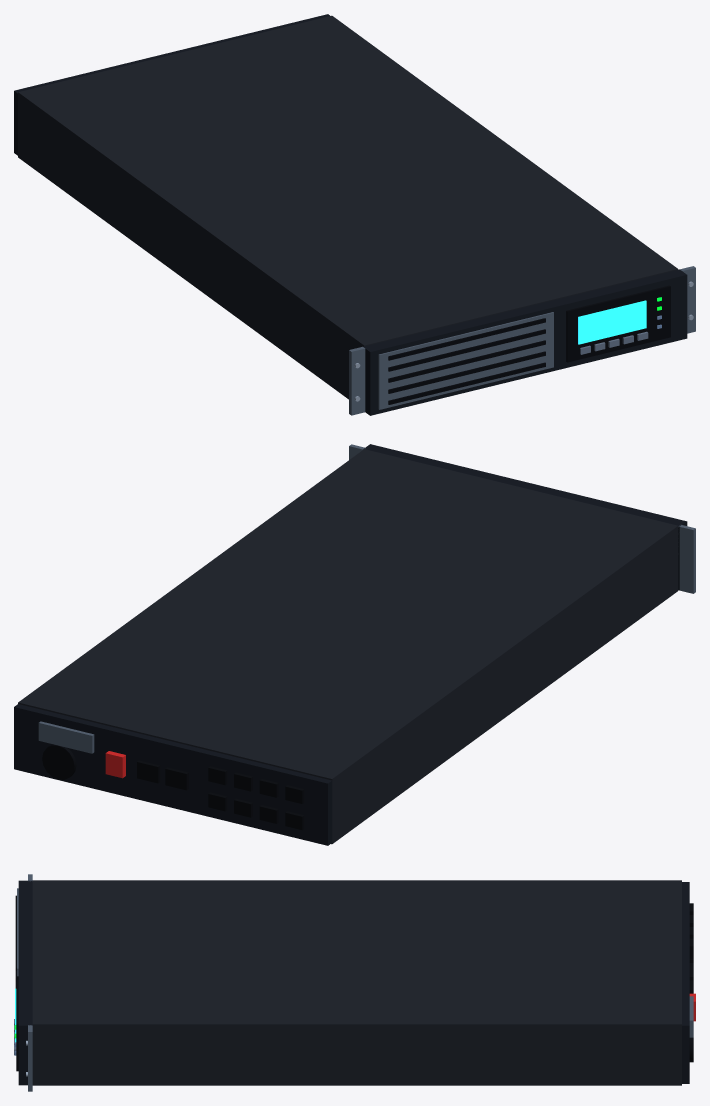
Rendered from generic_ups_2u.glb.
3 views of the same model, one above another, from view 1: azimuth 30°, elevation 25°; view 2: azimuth 150°, elevation 25°; view 3: azimuth 270°, elevation 25° (orthographic). The views are drawn at different scales.
Parts seen in each view (by area): view 1: BATCH_MAT_UPS_BODY, BATCH_MAT_UPS_BEZEL, BATCH_MAT_UPS_EAR, BATCH_MAT_UPS_DARK, BATCH_MAT_UPS_LCD_GLOW; view 2: BATCH_MAT_UPS_BODY, BATCH_MAT_UPS_BEZEL, BATCH_MAT_UPS_DARK, BATCH_MAT_UPS_EAR; view 3: BATCH_MAT_UPS_BODY, BATCH_MAT_UPS_BEZEL, BATCH_MAT_UPS_DARK, BATCH_MAT_UPS_EAR.
Part boxes in pixels (x1,y1,x2,y2): BATCH_MAT_UPS_BODY: (18,15,678,399); BATCH_MAT_UPS_BEZEL: (14,14,687,415); BATCH_MAT_UPS_EAR: (349,266,695,415); BATCH_MAT_UPS_DARK: (388,285,670,404); BATCH_MAT_UPS_LCD_GLOW: (578,300,646,344); BATCH_MAT_UPS_BODY: (18,449,678,844); BATCH_MAT_UPS_BEZEL: (14,444,687,845); BATCH_MAT_UPS_DARK: (42,744,304,830); BATCH_MAT_UPS_EAR: (38,444,695,753); BATCH_MAT_UPS_BODY: (32,880,681,1085); BATCH_MAT_UPS_BEZEL: (18,880,689,1085); BATCH_MAT_UPS_DARK: (15,895,693,1071); BATCH_MAT_UPS_EAR: (17,874,693,1091).
Size of the model in its own units: 0.4826 by 0.0874 by 0.882.
